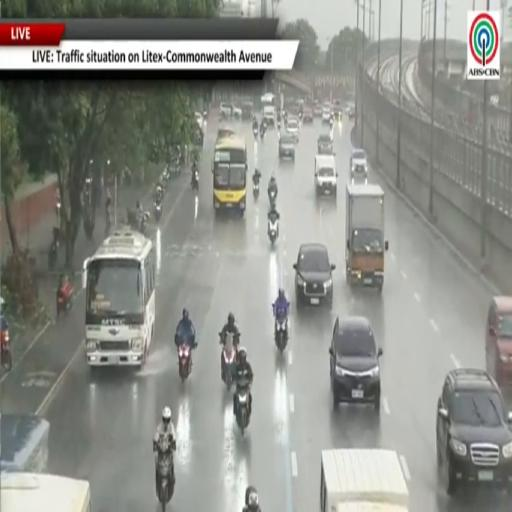bus: (83, 229, 155, 367), (0, 473, 91, 511), (213, 136, 247, 215)
car: (436, 368, 511, 494), (329, 316, 382, 411), (294, 244, 335, 308), (486, 296, 511, 386), (315, 155, 338, 198), (350, 149, 368, 179), (279, 133, 295, 161), (286, 117, 299, 141), (318, 134, 333, 154), (263, 106, 276, 126), (217, 127, 235, 140), (241, 102, 254, 120), (219, 103, 232, 118), (303, 106, 313, 123), (322, 106, 332, 123), (333, 100, 342, 118), (232, 105, 242, 120), (195, 112, 203, 130), (313, 104, 323, 118), (346, 102, 354, 119)
motorcycle: (156, 437, 175, 511), (220, 333, 236, 390), (236, 387, 250, 435), (47, 227, 60, 271), (57, 284, 73, 318), (0, 328, 12, 371), (178, 344, 191, 381), (275, 315, 287, 353), (138, 212, 150, 234), (268, 219, 278, 245), (191, 169, 199, 191), (268, 189, 276, 206), (154, 202, 161, 221), (56, 197, 61, 223), (156, 185, 163, 201), (253, 183, 259, 199), (253, 126, 258, 139), (260, 128, 265, 140), (298, 111, 302, 122), (330, 117, 333, 127), (277, 121, 280, 130)
truck: (321, 448, 408, 511), (346, 184, 388, 292), (0, 414, 49, 473)
